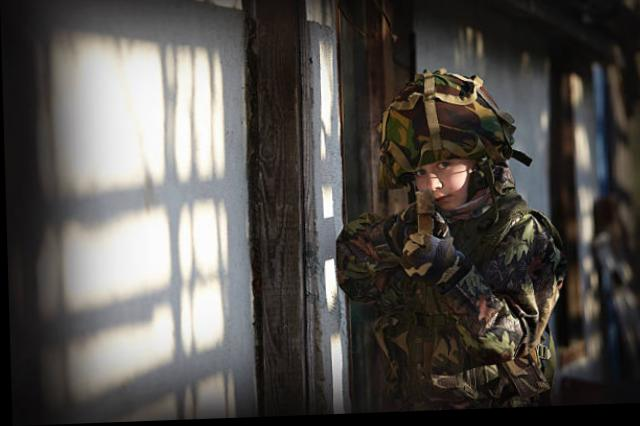other: (348, 95, 576, 401)
